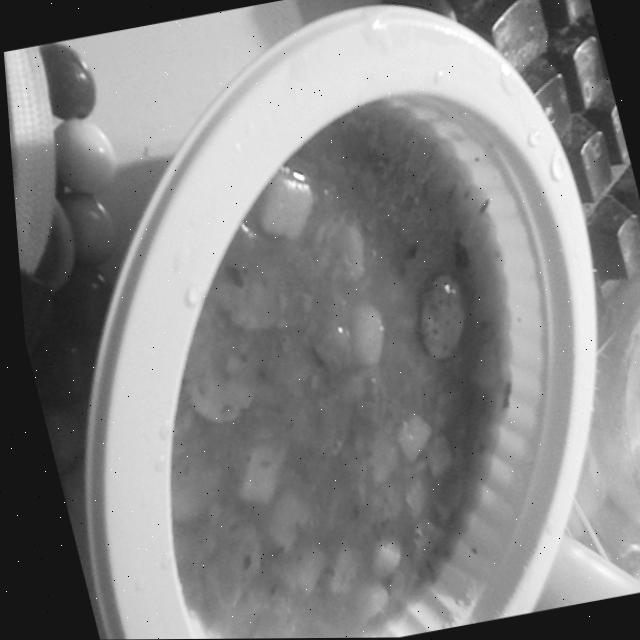汤锅炖物: (18, 61, 638, 640)
